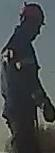gloves: (41, 102, 55, 123)
helmet: (18, 2, 45, 25)
vest: (0, 24, 42, 117)
